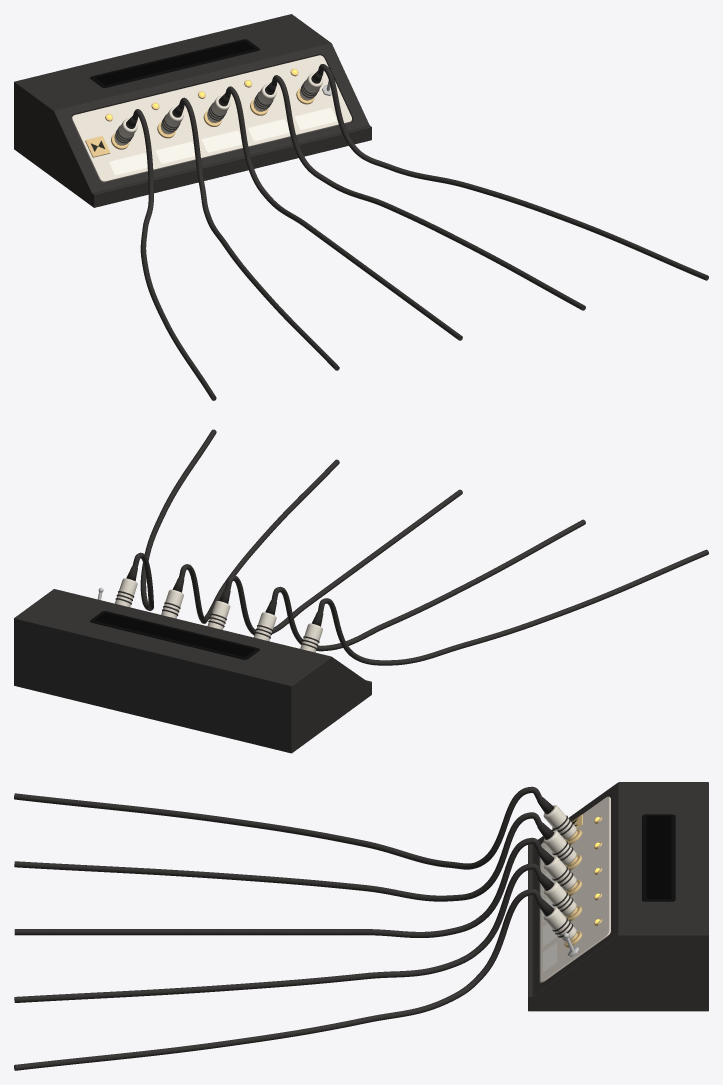
The model's file is patchboard.glb.
3 views of the same model, one above another, from view 1: azimuth 30°, elevation 25°; view 2: azimuth 150°, elevation 25°; view 3: azimuth 270°, elevation 25° (orthographic). The views are drawn at different scales.
Parts seen in each view (by area): view 1: body, cable4, cable3, cable2, cable1, cable0, display; view 2: body, cable0, cable1, cable2, display, cable3, cable4, plug3, plug0, plug2, plug1, plug4; view 3: body, cable3, cable2, cable0, cable4, cable1, display, plug0, plug2, plug1, plug3, plug4.
Boxes of the visible parts, x1,y1,x2,y2 form: body: [14, 14, 371, 207]; cable4: [318, 64, 708, 280]; cable3: [271, 75, 585, 310]; cable2: [225, 86, 462, 340]; cable1: [178, 97, 339, 370]; cable0: [132, 109, 216, 400]; display: [95, 41, 255, 85]; body: [14, 587, 371, 753]; cable0: [318, 549, 708, 665]; cable1: [271, 519, 585, 651]; cable2: [225, 489, 462, 635]; display: [95, 612, 254, 656]; cable3: [179, 459, 339, 623]; cable4: [132, 429, 216, 610]; plug3: [161, 577, 184, 618]; plug0: [300, 611, 323, 652]; plug2: [207, 589, 230, 629]; plug1: [254, 600, 276, 640]; plug4: [115, 566, 137, 607]; body: [528, 782, 708, 1011]; cable3: [14, 863, 542, 1002]; cable2: [14, 837, 542, 937]; cable0: [14, 786, 542, 869]; cable4: [14, 888, 542, 1070]; cable1: [14, 812, 542, 901]; display: [646, 816, 671, 898]; plug0: [537, 797, 577, 841]; plug2: [537, 848, 577, 892]; plug1: [537, 822, 577, 866]; plug3: [537, 873, 577, 917]; plug4: [537, 899, 577, 942].
Bounding box in the file's own units: 0.5369 × 0.092 × 0.5757.
